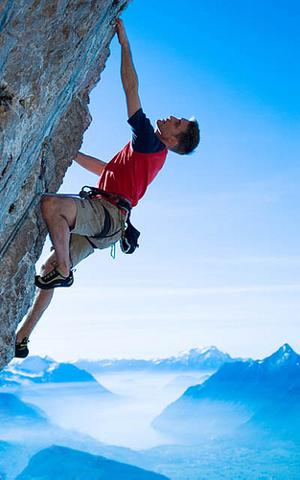person: (13, 16, 202, 362)
